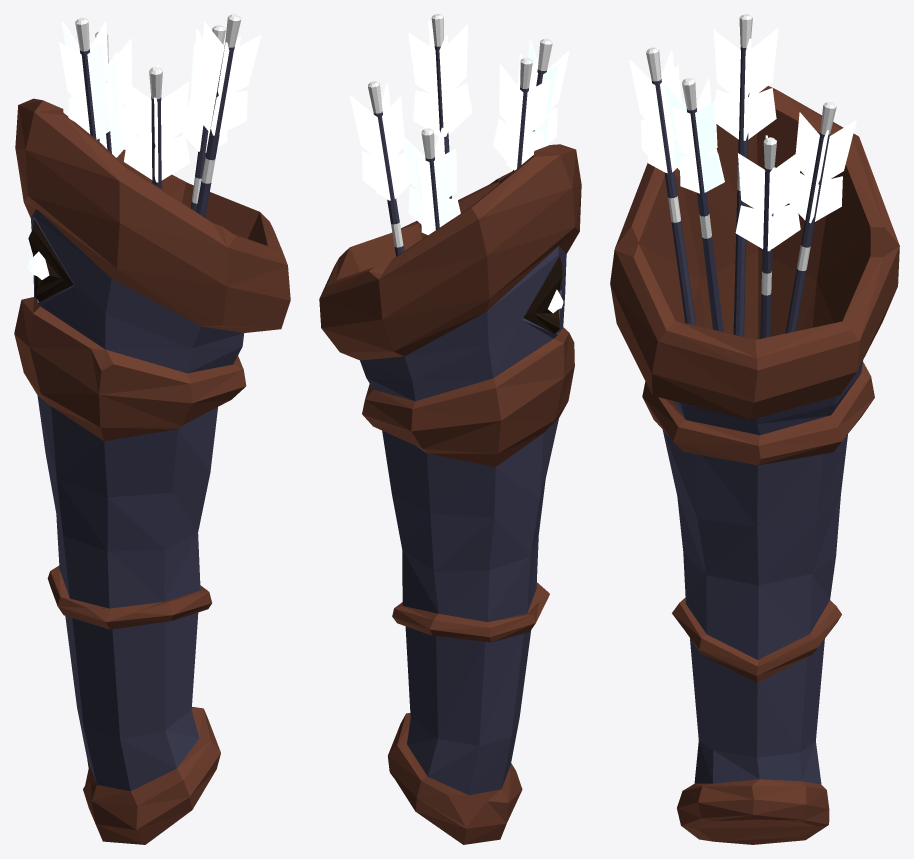
The model's file is SFFA_Arrow_Bag_Runical_001.fbx.
The picture shows the model from 3 angles, left to right: view 1: azimuth 30°, elevation 25°; view 2: azimuth 150°, elevation 25°; view 3: azimuth 270°, elevation 25°; orthographic projection. The views are drawn at different scales.
Parts seen in each view (by area): view 1: SFFA_Arrow_Bag_Runical_001; view 2: SFFA_Arrow_Bag_Runical_001; view 3: SFFA_Arrow_Bag_Runical_001.
Boxes of the visible parts, x1=… form: SFFA_Arrow_Bag_Runical_001: x1=14, y1=14, x2=290, y2=844; SFFA_Arrow_Bag_Runical_001: x1=319, y1=14, x2=581, y2=844; SFFA_Arrow_Bag_Runical_001: x1=610, y1=14, x2=899, y2=844.
Bounding box in the file's own units: 27.5 × 87.14 × 27.97.
